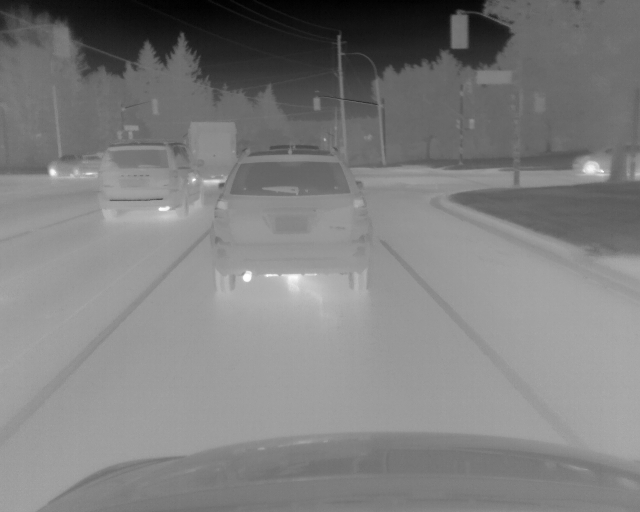car: (207, 144, 372, 294), (98, 140, 207, 222), (185, 118, 239, 181), (570, 143, 640, 181), (47, 151, 100, 179)
